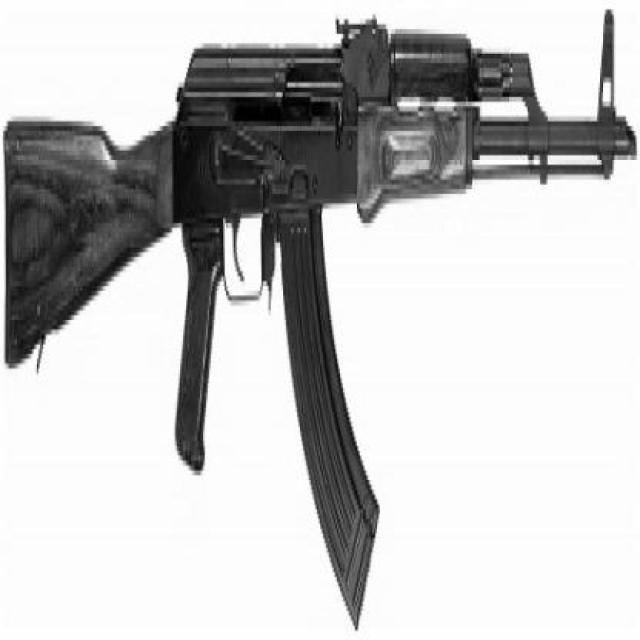weapon: (4, 9, 634, 631)
